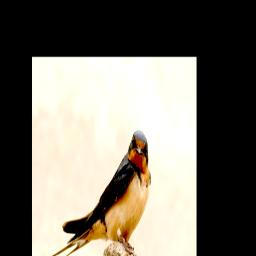Swallow: (51, 129, 152, 256)
